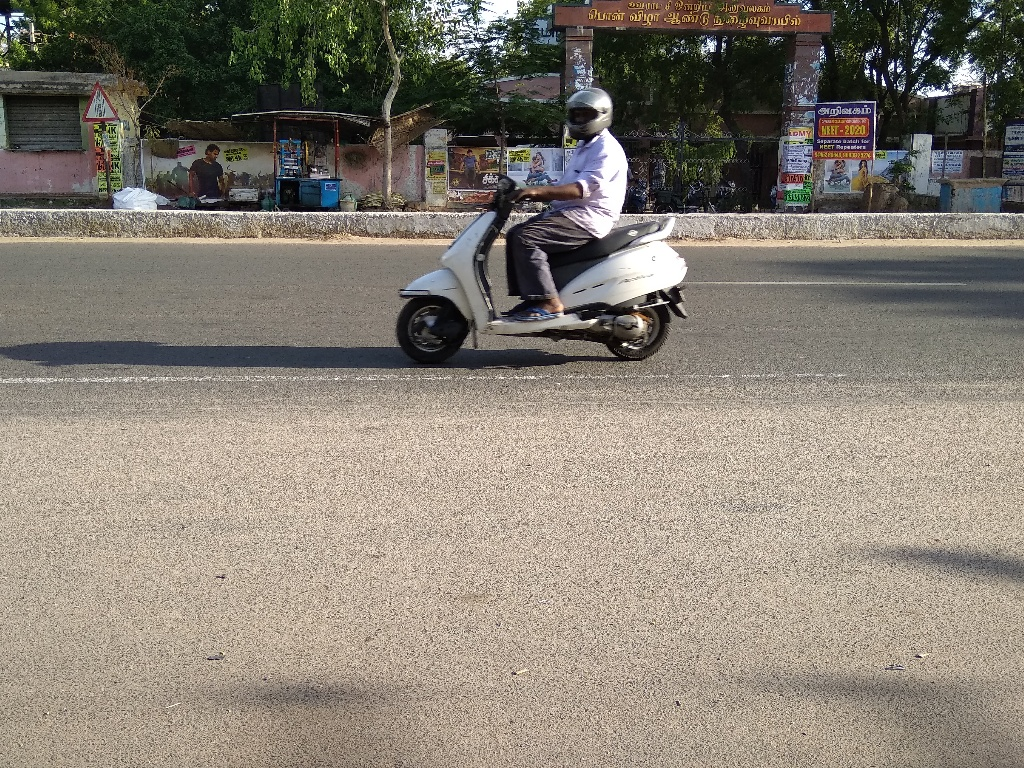biker: (382, 47, 703, 373)
helmet: (554, 76, 628, 154)
